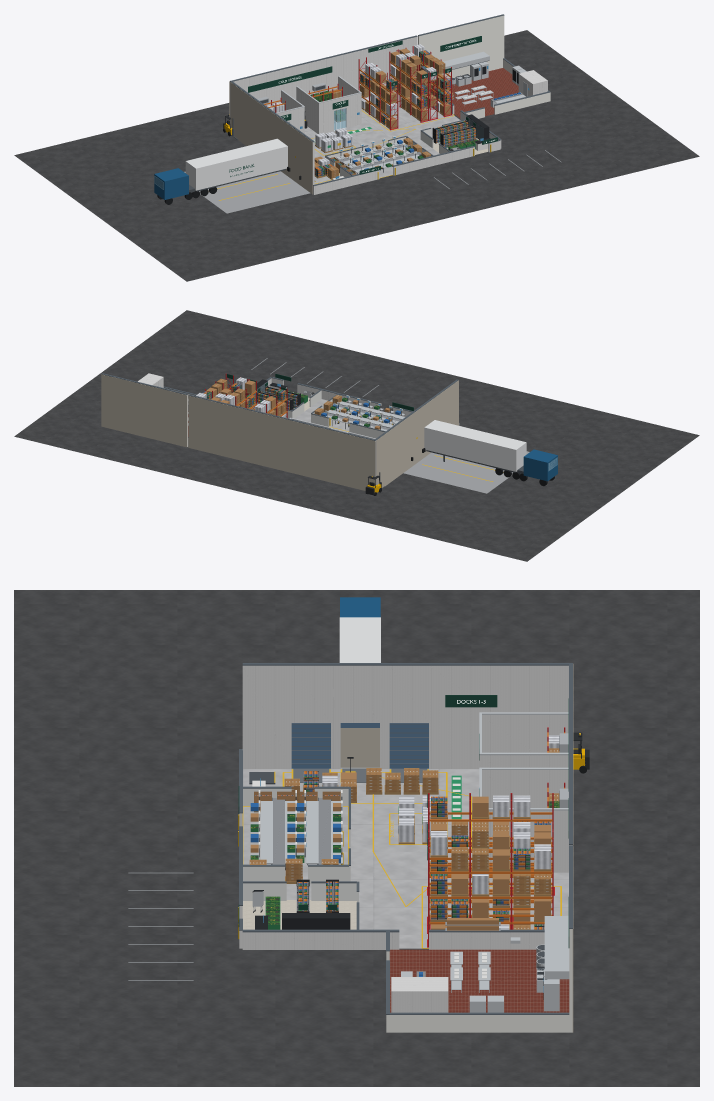
Rendered from facility.glb.
The picture shows the model from 3 angles, top to bottom: view 1: azimuth 30°, elevation 25°; view 2: azimuth 150°, elevation 25°; view 3: azimuth 270°, elevation 25°; orthographic projection. The views are drawn at different scales.
Parts seen in each view (by area): view 1: Site_asphalt, Shell_wall, Shell_wall_ext, Kitchen_frp, Vehicles_truck_white, Shell_floor, Site_apron, Cooler_cold_panel, Kitchen_kitchen_floor, Kitchen_steel, DryStorage_rack_red, DryStorage_carton (+15 smaller); view 2: Site_asphalt, Shell_wall_ext, Kitchen_wall_ext, Vehicles_truck_white, Site_apron, Vehicles_truck_cab, Shell_cap, Sorting_steel, Sorting_partition, Shell_wall, Shell_floor, DryStorage_carton (+2 smaller); view 3: Site_asphalt, Shell_wall, Shell_floor, Kitchen_kitchen_floor, Cooler_cold_panel, Freezer_cold_panel, Kitchen_steel, Shell_dock_door, Kitchen_frp, Shell_cap, DryStorage_carton_plain, DryStorage_rack_beam (+22 smaller).
Boxes of the visible parts, x1=… form: Site_asphalt: x1=14, y1=30, x2=699, y2=281; Shell_wall: x1=230, y1=36, x2=501, y2=194; Shell_wall_ext: x1=229, y1=81, x2=312, y2=194; Kitchen_frp: x1=418, y1=15, x2=550, y2=118; Vehicles_truck_white: x1=185, y1=138, x2=287, y2=190; Shell_floor: x1=304, y1=101, x2=460, y2=184; Site_apron: x1=184, y1=171, x2=310, y2=213; Cooler_cold_panel: x1=296, y1=77, x2=361, y2=133; Kitchen_kitchen_floor: x1=449, y1=68, x2=518, y2=118; Kitchen_steel: x1=443, y1=51, x2=527, y2=107; DryStorage_rack_red: x1=358, y1=46, x2=452, y2=130; DryStorage_carton: x1=360, y1=57, x2=445, y2=120; Site_asphalt: x1=14, y1=310, x2=699, y2=561; Shell_wall_ext: x1=188, y1=380, x2=458, y2=490; Kitchen_wall_ext: x1=101, y1=374, x2=187, y2=447; Vehicles_truck_white: x1=424, y1=420, x2=526, y2=471; Site_apron: x1=403, y1=451, x2=529, y2=493; Vehicles_truck_cab: x1=523, y1=449, x2=557, y2=481; Shell_cap: x1=188, y1=377, x2=459, y2=440; Sorting_steel: x1=326, y1=400, x2=404, y2=431; Sorting_partition: x1=311, y1=395, x2=402, y2=438; Shell_wall: x1=188, y1=378, x2=459, y2=484; Shell_floor: x1=295, y1=399, x2=395, y2=432; DryStorage_carton: x1=211, y1=378, x2=286, y2=415; Site_asphalt: x1=14, y1=590, x2=699, y2=1086; Shell_wall: x1=239, y1=665, x2=572, y2=949; Shell_floor: x1=243, y1=769, x2=568, y2=948; Kitchen_kitchen_floor: x1=389, y1=949, x2=569, y2=1012; Cooler_cold_panel: x1=482, y1=770, x2=568, y2=872; Freezer_cold_panel: x1=479, y1=715, x2=568, y2=767; Kitchen_steel: x1=401, y1=916, x2=569, y2=1012; Shell_dock_door: x1=291, y1=723, x2=428, y2=768; Kitchen_frp: x1=386, y1=929, x2=572, y2=1032; Shell_cap: x1=239, y1=663, x2=572, y2=932; DryStorage_carton_plain: x1=431, y1=796, x2=550, y2=929; DryStorage_rack_beam: x1=429, y1=812, x2=552, y2=924.
Bounding box in the file's own units: 72 × 7.09 × 42.
46 materials, 11 textured.
